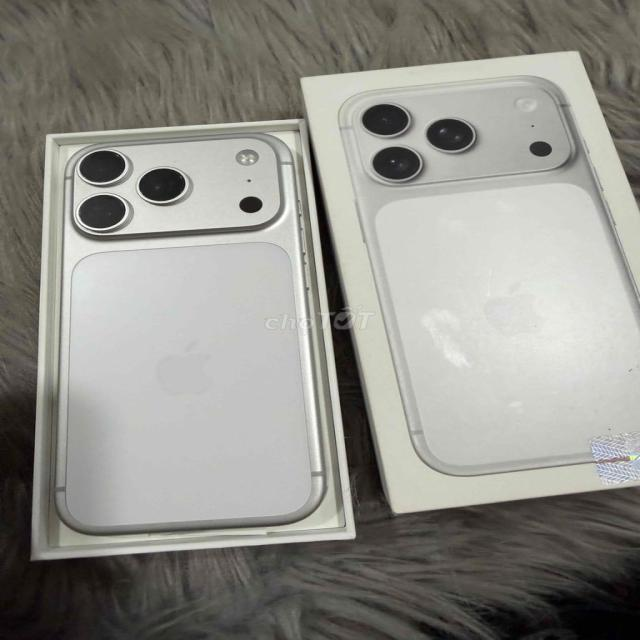gen_17: (49, 132, 347, 536)
